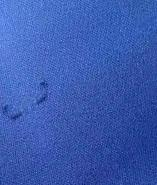knot: (30, 80, 53, 106), (1, 102, 24, 123)
